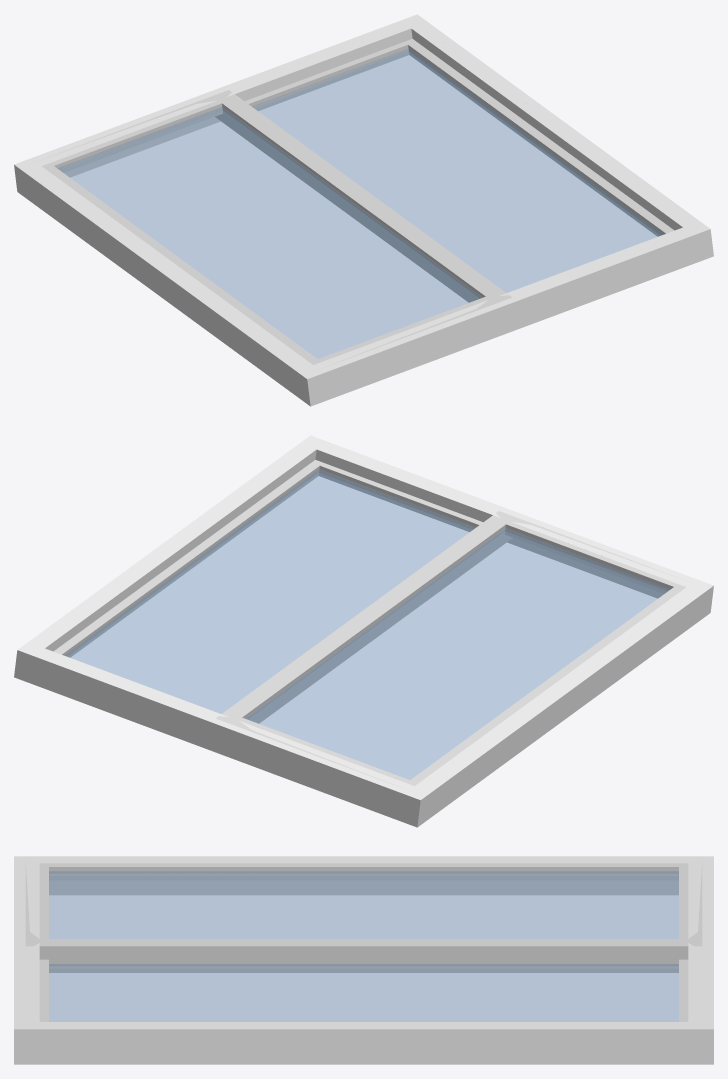
3 views of the same model, one above another, from view 1: azimuth 30°, elevation 25°; view 2: azimuth 150°, elevation 25°; view 3: azimuth 270°, elevation 25° (orthographic). The views are drawn at different scales.
Visible parts, largest first — view 1: 0_3_1_2_3_1_0_2_0; view 2: 0_3_1_2_3_1_0_2_0; view 3: 0_3_1_2_3_1_0_2_0.
Boxes of the visible parts, x1,y1,x2,y2 form: 0_3_1_2_3_1_0_2_0: [14, 14, 713, 406]; 0_3_1_2_3_1_0_2_0: [14, 435, 713, 827]; 0_3_1_2_3_1_0_2_0: [14, 856, 713, 1064].
Bounding box in the file's own units: 1.2 × 0.2256 × 1.5.
